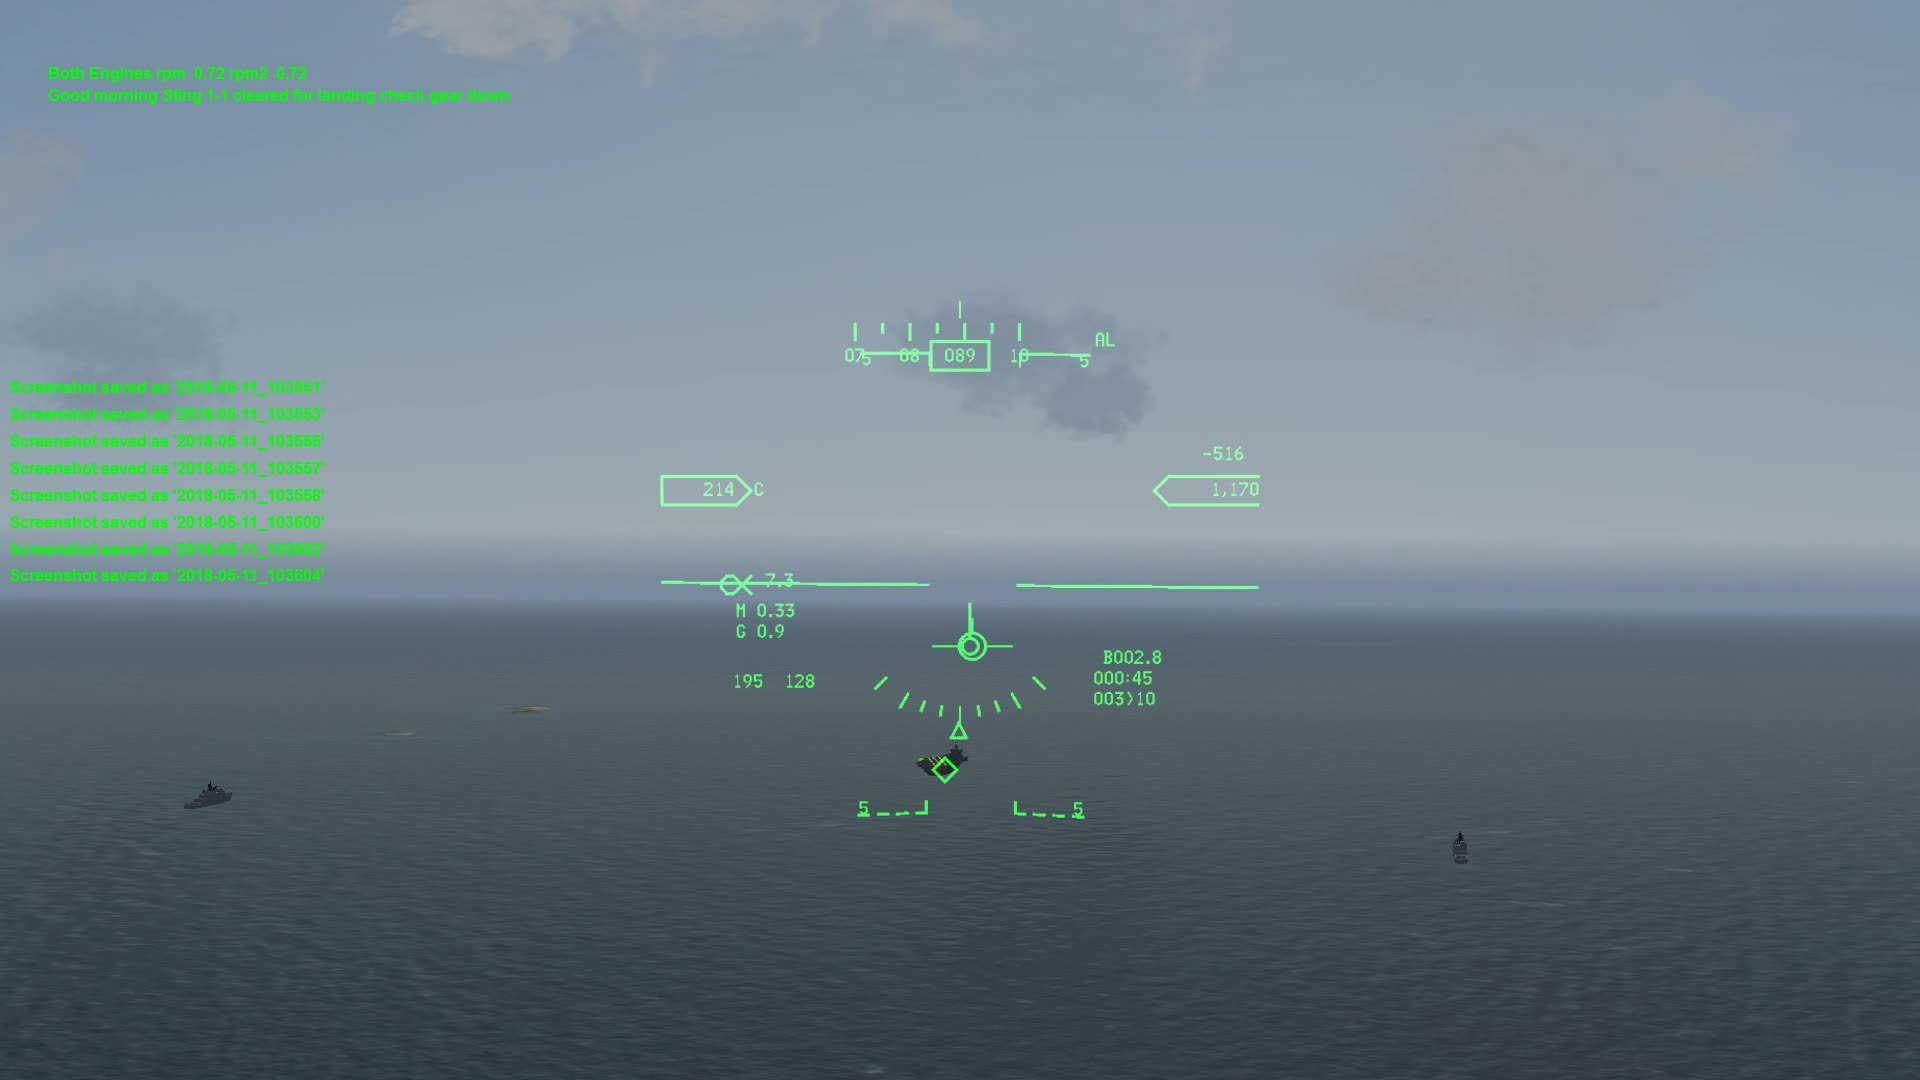speed vector: (924, 603, 1013, 665)
